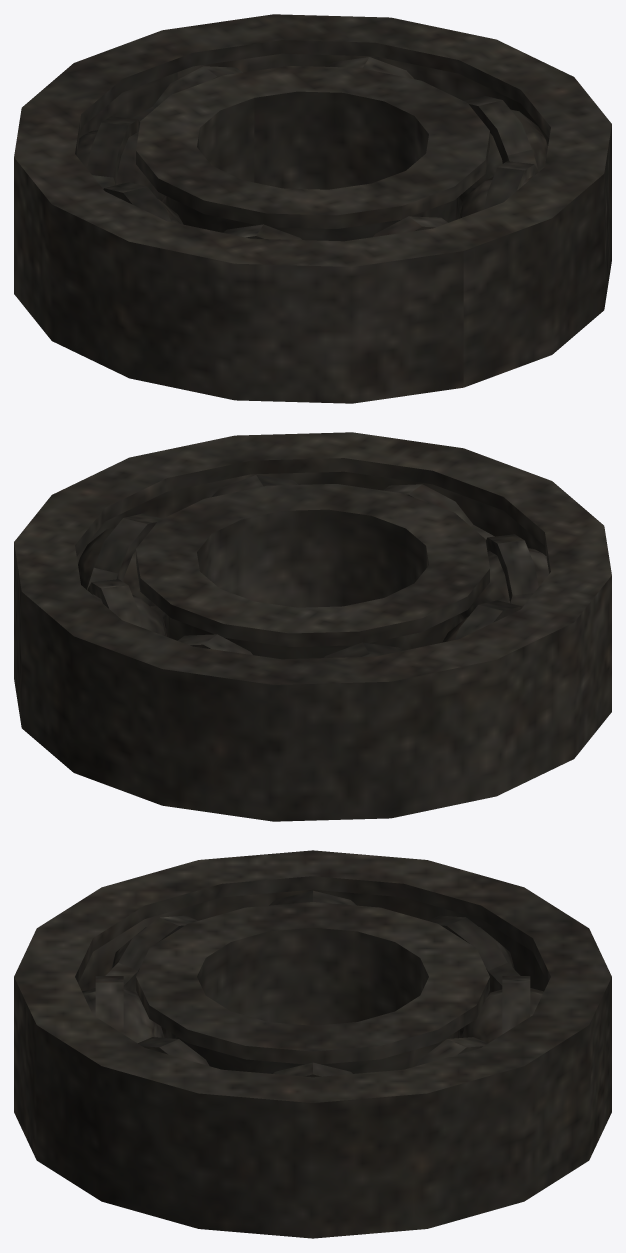
File: ball_bearing_mx_1_1_large.obj
The picture shows the model from 3 angles, top to bottom: view 1: azimuth 30°, elevation 25°; view 2: azimuth 150°, elevation 25°; view 3: azimuth 270°, elevation 25°; orthographic projection.
Visible parts, largest first — view 1: ball_bearing_mx_1_1_large; view 2: ball_bearing_mx_1_1_large; view 3: ball_bearing_mx_1_1_large.
Boxes of the visible parts, <box> form: ball_bearing_mx_1_1_large: <box>14,14,611,403</box>; ball_bearing_mx_1_1_large: <box>14,432,611,821</box>; ball_bearing_mx_1_1_large: <box>14,850,611,1238</box>.
Size of the model in its own units: 0.2 by 0.05 by 0.2.
